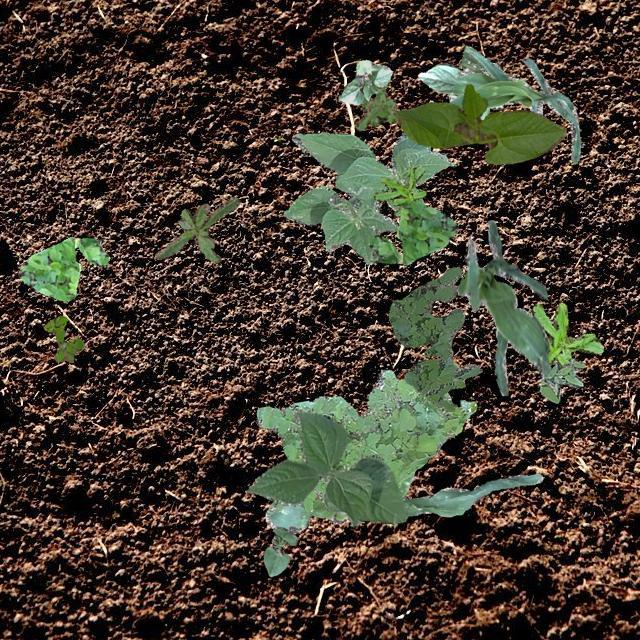crop: (282, 132, 453, 264), (246, 410, 406, 526), (264, 472, 542, 532), (456, 218, 550, 394), (448, 44, 580, 162), (394, 82, 566, 164), (416, 62, 502, 118), (338, 59, 392, 104), (262, 526, 296, 576)
weed: (256, 368, 476, 514), (388, 266, 480, 411), (17, 236, 108, 300), (368, 200, 458, 264), (154, 196, 238, 262), (530, 302, 602, 366), (372, 166, 424, 216), (538, 358, 584, 402), (42, 314, 84, 362), (354, 86, 398, 130)
